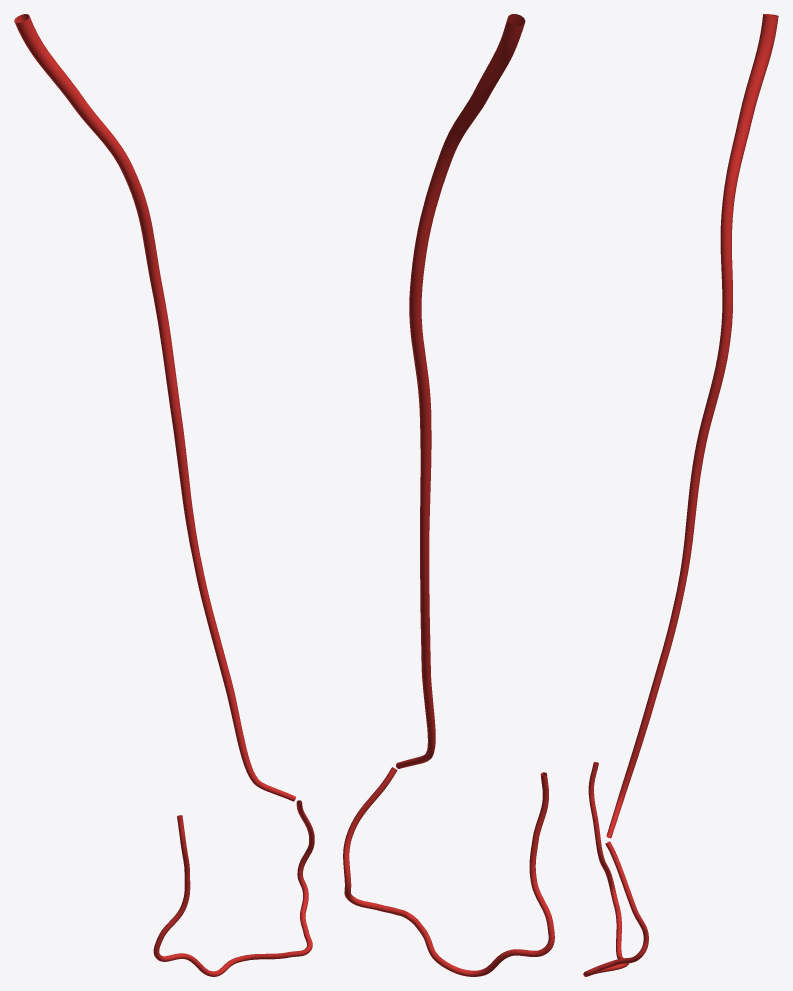
The model's file is circulatorio-radial-veins-l.glb.
The picture shows the model from 3 angles, left to right: view 1: azimuth 30°, elevation 25°; view 2: azimuth 150°, elevation 25°; view 3: azimuth 270°, elevation 25°; orthographic projection. The views are drawn at different scales.
Parts seen in each view (by area): view 1: Radial veins.l, Deep venous palmar arch.l; view 2: Radial veins.l, Deep venous palmar arch.l; view 3: Radial veins.l, Deep venous palmar arch.l.
Boxes of the visible parts, bbox=[...] form: Radial veins.l: bbox=[14, 14, 295, 801]; Deep venous palmar arch.l: bbox=[153, 800, 314, 976]; Radial veins.l: bbox=[396, 14, 525, 768]; Deep venous palmar arch.l: bbox=[343, 767, 554, 976]; Radial veins.l: bbox=[606, 14, 778, 838]; Deep venous palmar arch.l: bbox=[583, 762, 648, 976].
Bounding box in the file's own units: 0.0646 × 0.252 × 0.0499.
